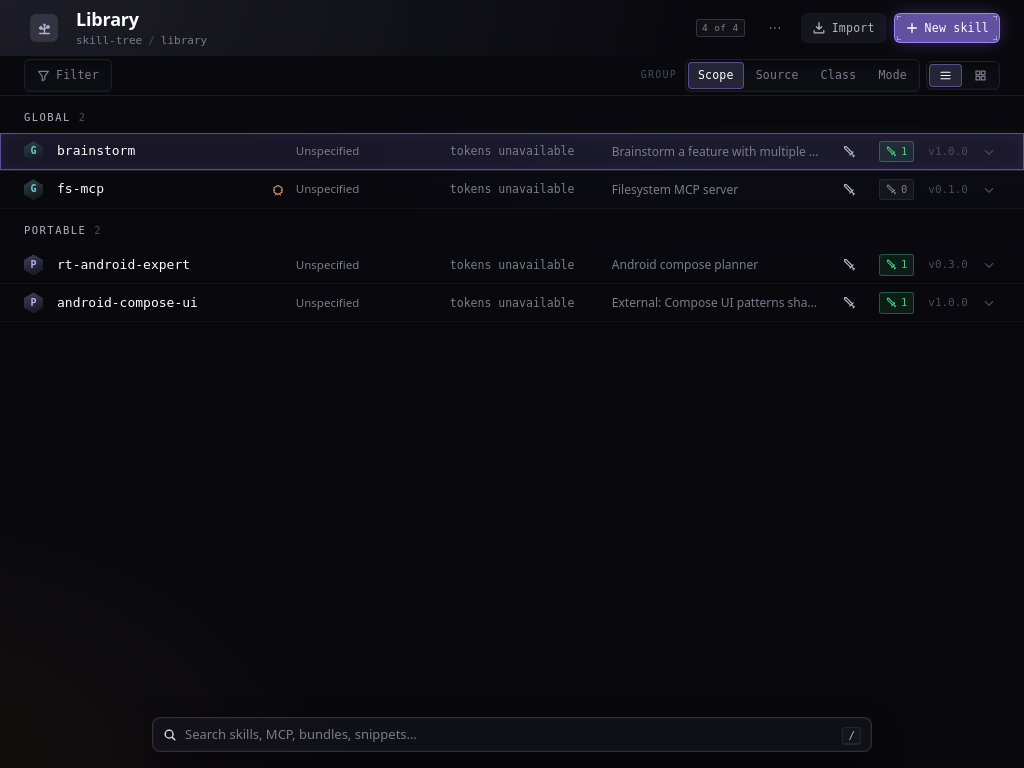
Test: SkillLibrary — unified floating search › 7b. the kind pill survives a blur and restores the skill rows when clicked
The image size is (1024, 768).
Focus the field with test id "floating-search-input" at (510, 734), box [185,725,834,744]
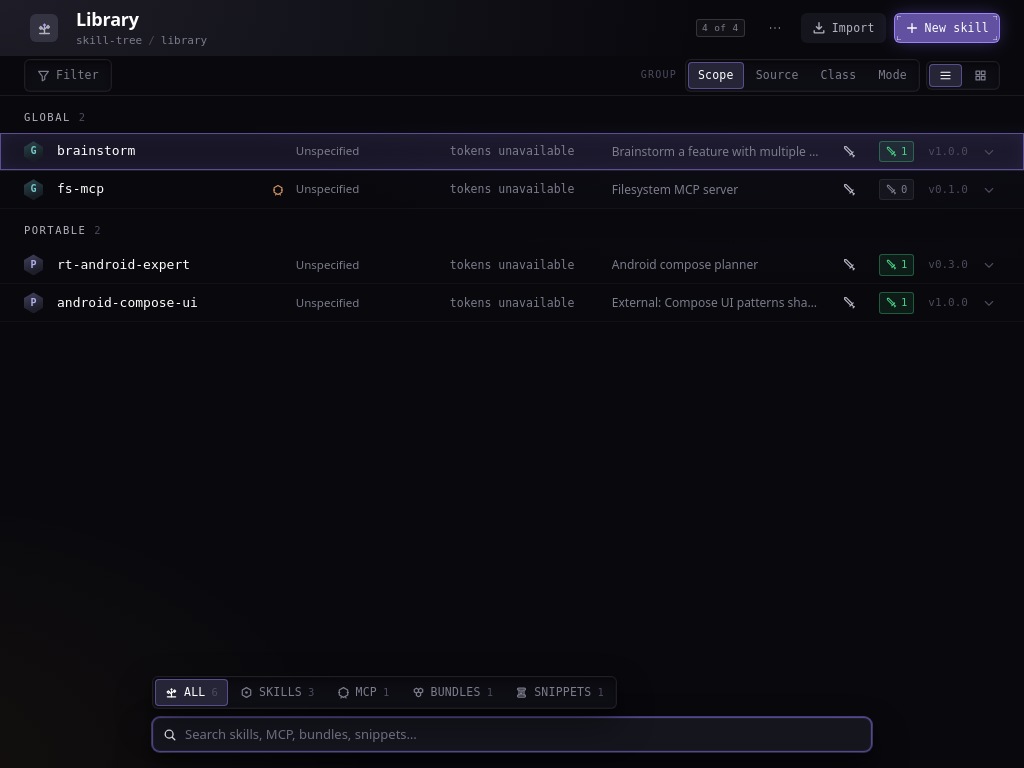
Click the button "BUNDLES 1" at (452, 693), box [402,680,503,706]
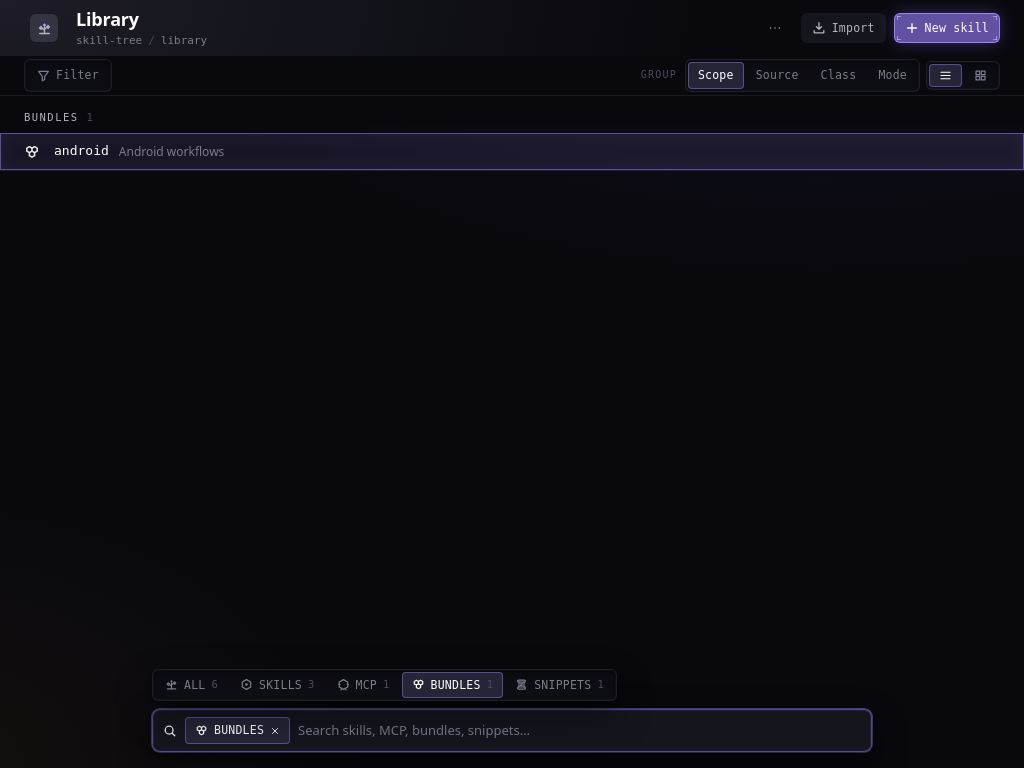
Leave the field with test id "floating-search-input", box [298,721,861,740]
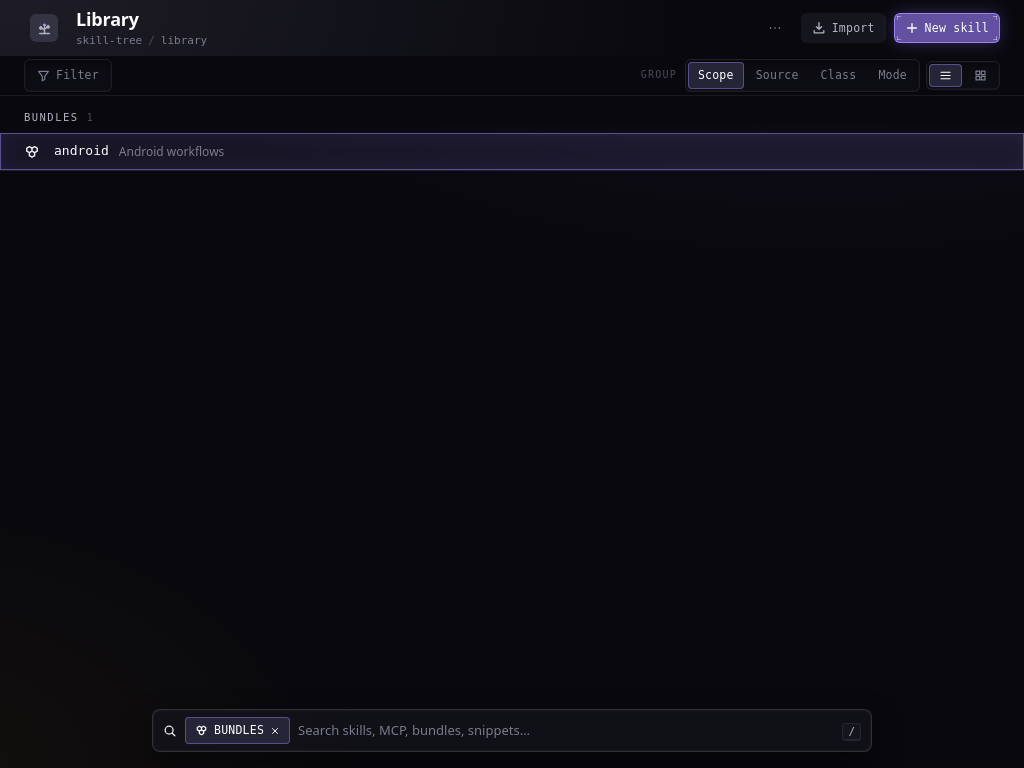
Expected: the button with test id "floating-search-kind-pill" reads "BUNDLES"
Expected: the button with test id "library-body-hit" is shown, [0,133,1023,171]
Click the button with test id "floating-search-kind-pill" at (238, 731), box [185,717,290,744]
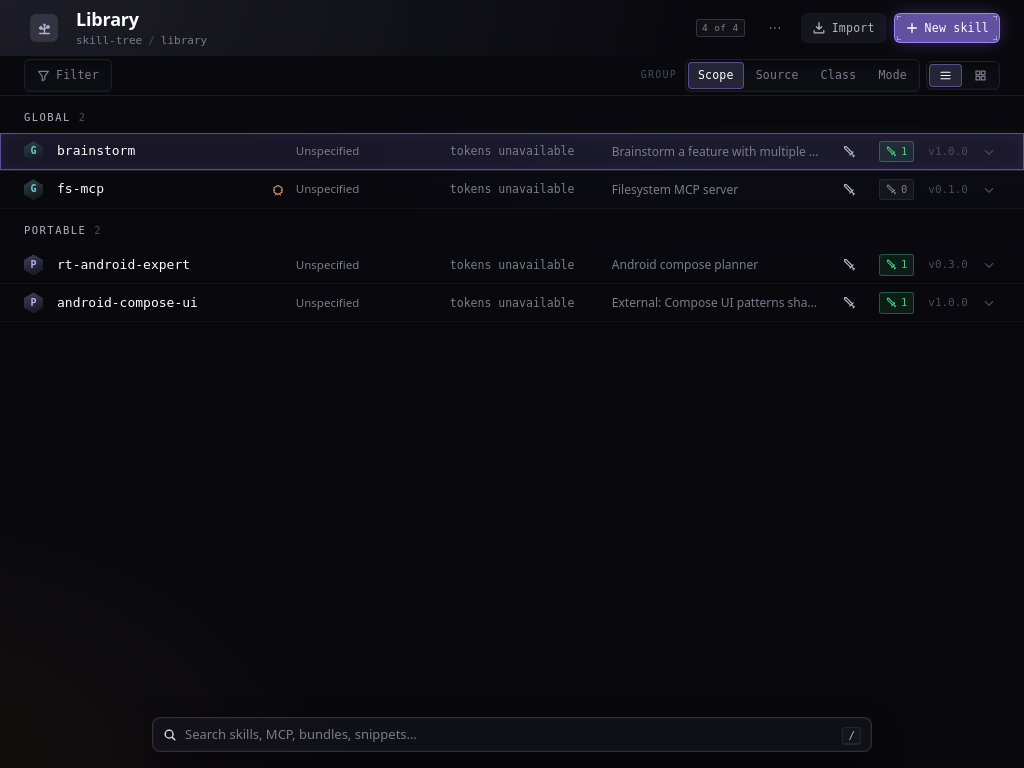
Expected: the button with test id "floating-search-kind-pill" is gone
Expected: the button with test id "library-body-hit" is gone
Expected: the text "rt-android-expert" is shown, [57,256,190,272]
